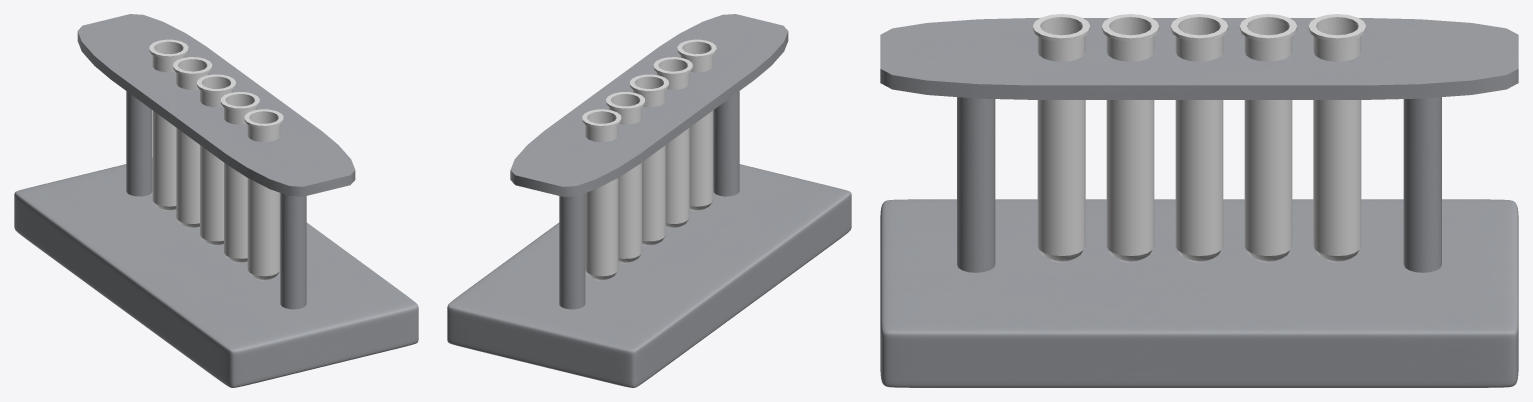
Rendered from Test Tubes.fbx.
3 views of the same model, side by side, from view 1: azimuth 30°, elevation 25°; view 2: azimuth 150°, elevation 25°; view 3: azimuth 270°, elevation 25° (orthographic). The views are drawn at different scales.
Visible parts, largest first — view 1: Base, Rack, TestTubes, Support; view 2: Base, Rack, TestTubes, Support; view 3: Base, TestTubes, Rack, Support.
Part boxes in pixels (x1,y1,x2,y2): Base: (14, 158, 418, 387); Rack: (77, 14, 355, 196); TestTubes: (149, 39, 283, 280); Support: (126, 91, 306, 309); Base: (447, 164, 851, 387); Rack: (510, 14, 788, 196); TestTubes: (582, 39, 716, 280); Support: (559, 91, 739, 309); Base: (880, 199, 1518, 387); TestTubes: (1033, 14, 1365, 262); Rack: (880, 18, 1518, 99); Support: (957, 97, 1441, 272).
Size of the model in its own units: 100 by 102 by 200.
